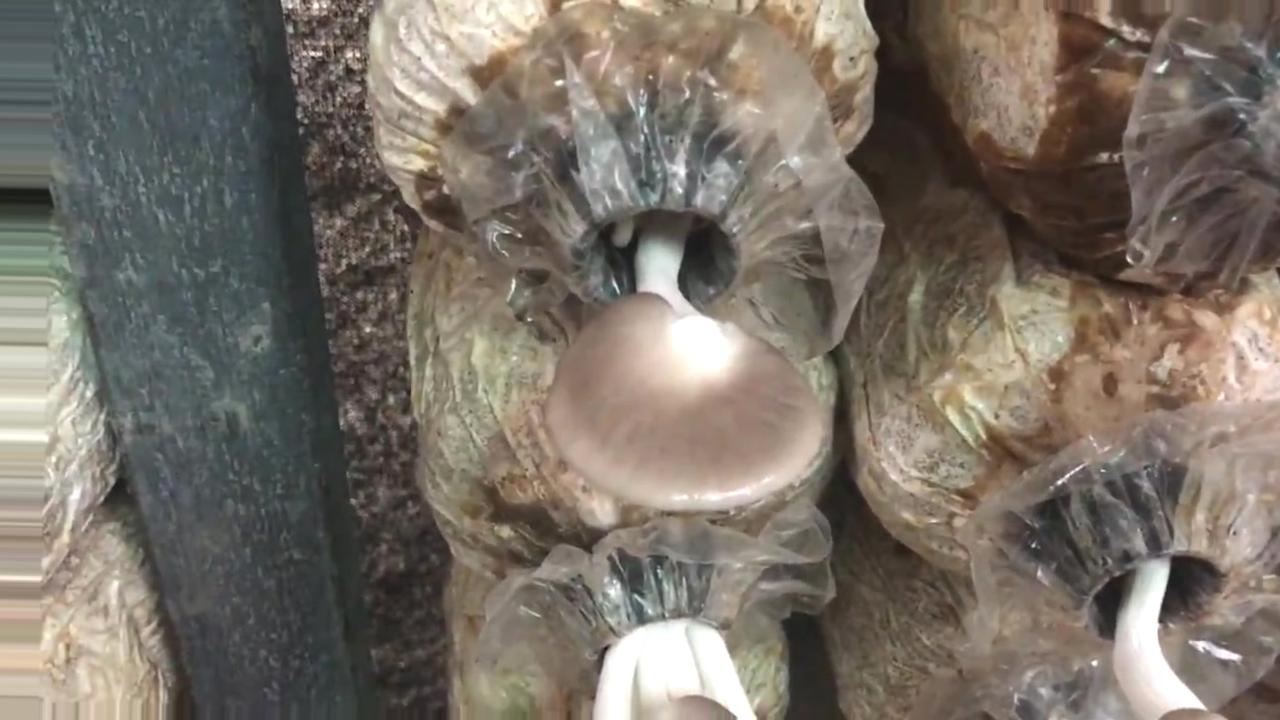nam: (542, 150, 827, 510)
